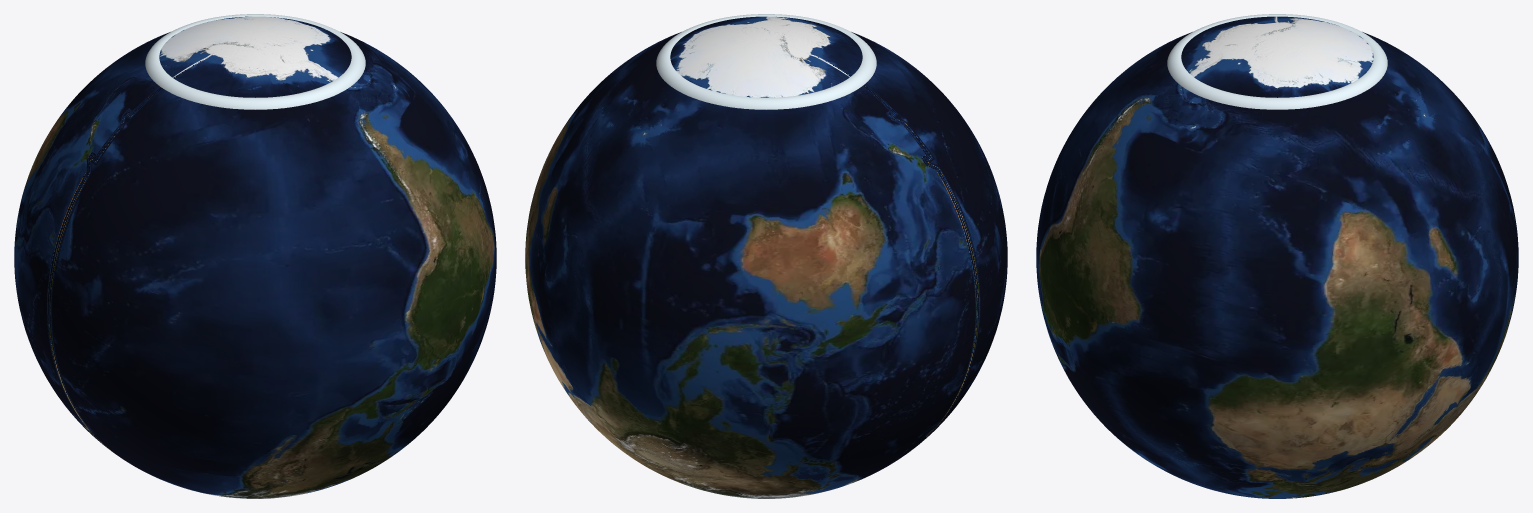
File: three-cell.glb
3 views of the same model, side by side, from view 1: azimuth 30°, elevation 25°; view 2: azimuth 150°, elevation 25°; view 3: azimuth 270°, elevation 25° (orthographic).
Visible parts, largest first — view 1: Cell_Earth, Cell_Polar; view 2: Cell_Earth, Cell_Polar; view 3: Cell_Earth, Cell_Polar.
Part boxes in pixels (x1,y1,x2,y2): Cell_Earth: (14, 16, 496, 498); Cell_Polar: (145, 14, 365, 109); Cell_Earth: (525, 16, 1007, 498); Cell_Polar: (656, 14, 876, 109); Cell_Earth: (1036, 16, 1518, 498); Cell_Polar: (1167, 14, 1387, 109).
Size of the model in its own units: 2.2 by 2.2 by 2.2.
Materials: 4 (1 with a texture image).
